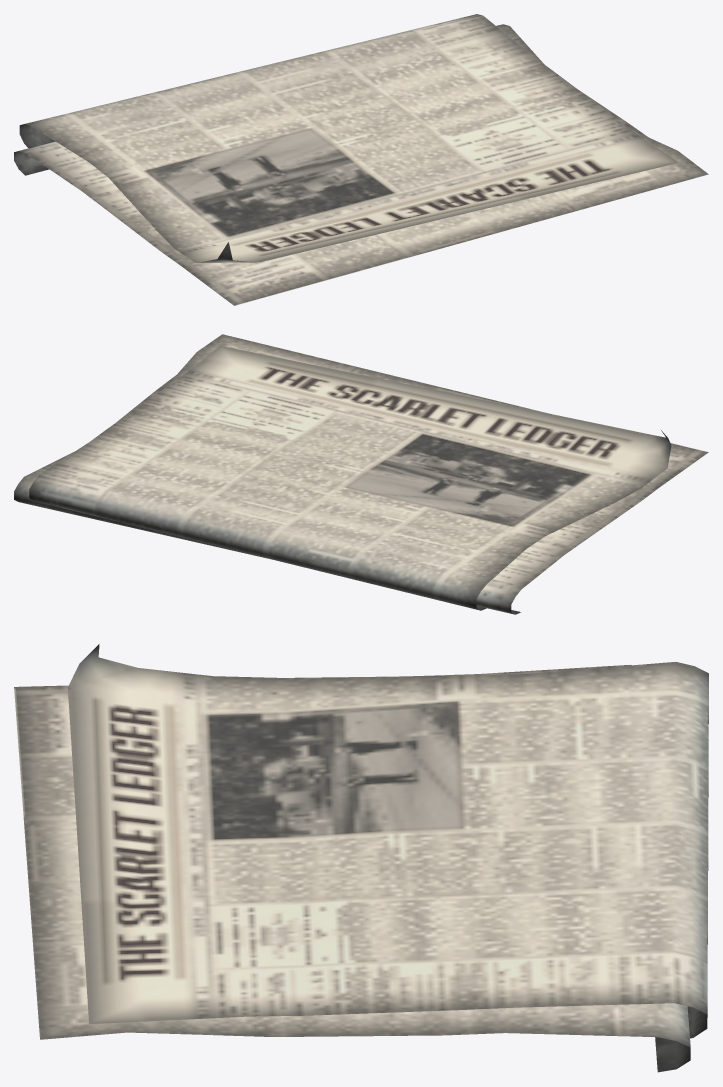
The model's file is Newspaper.fbx.
3 renders of one model, top to bottom at view 1: azimuth 30°, elevation 25°; view 2: azimuth 150°, elevation 25°; view 3: azimuth 270°, elevation 25°, orthographic. The views are drawn at different scales.
Visible parts, largest first — view 1: Newspaper; view 2: Newspaper; view 3: Newspaper.
Boxes of the visible parts, x1,y1,x2,y2 form: Newspaper: (14, 14, 708, 305); Newspaper: (14, 334, 708, 614); Newspaper: (14, 644, 708, 1072).
Size of the model in its own units: 56.68 by 5.71 by 44.64.
